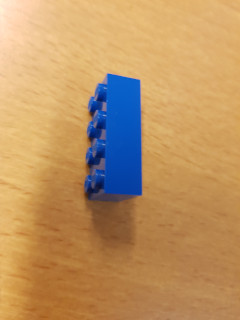2x4 blue: (82, 72, 144, 203)
